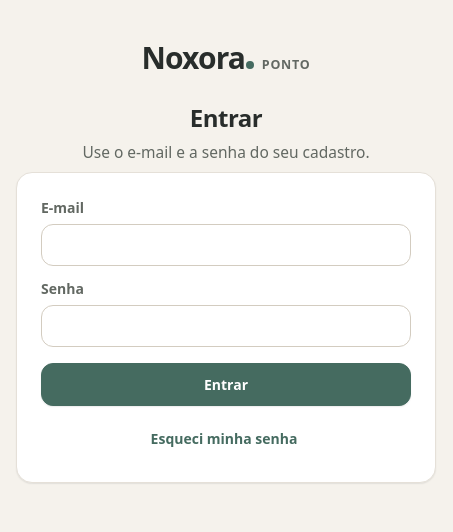
Test: App › mostra erro de credenciais inválidas
Type "a@a.test" into the field labelled "E-mail" at (226, 245), box [41, 224, 411, 266]
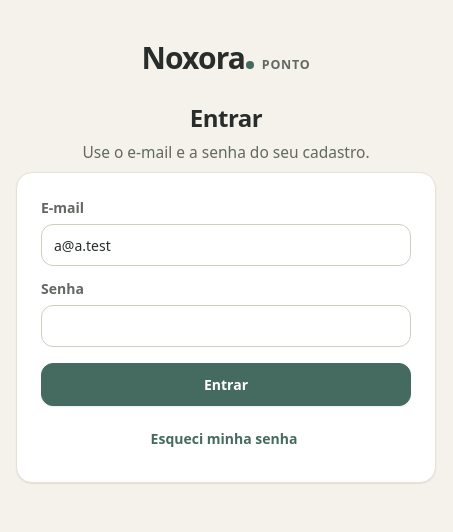
Type "x" into the password field labelled "Senha" at (226, 326), box [41, 305, 411, 347]
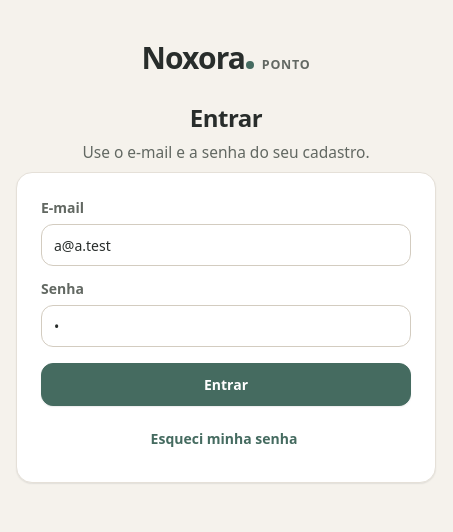
Click the button "Entrar" at (226, 384), box [41, 363, 411, 406]
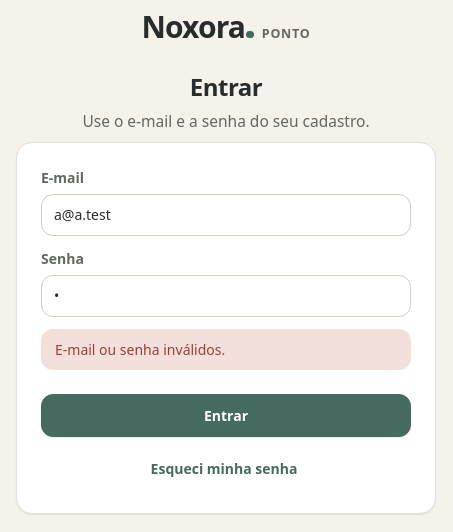
Expected: the message reads "E-mail ou senha inválidos.", [55, 340, 225, 358]
